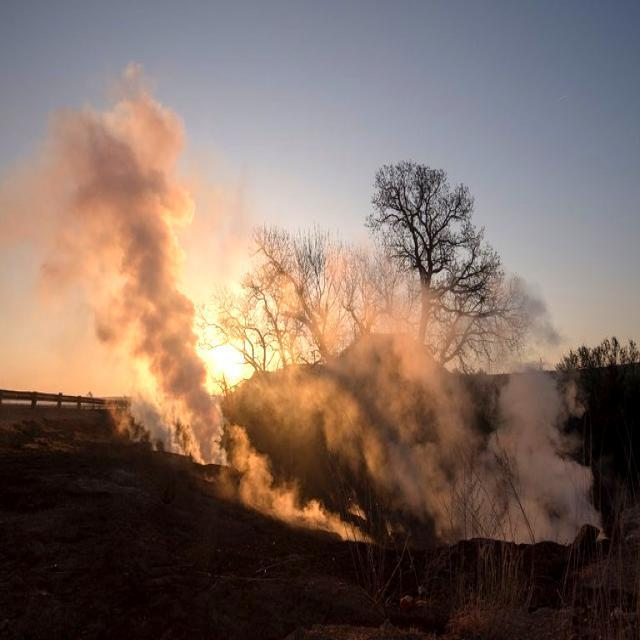Smoke: (262, 193, 600, 550), (0, 73, 222, 458)
